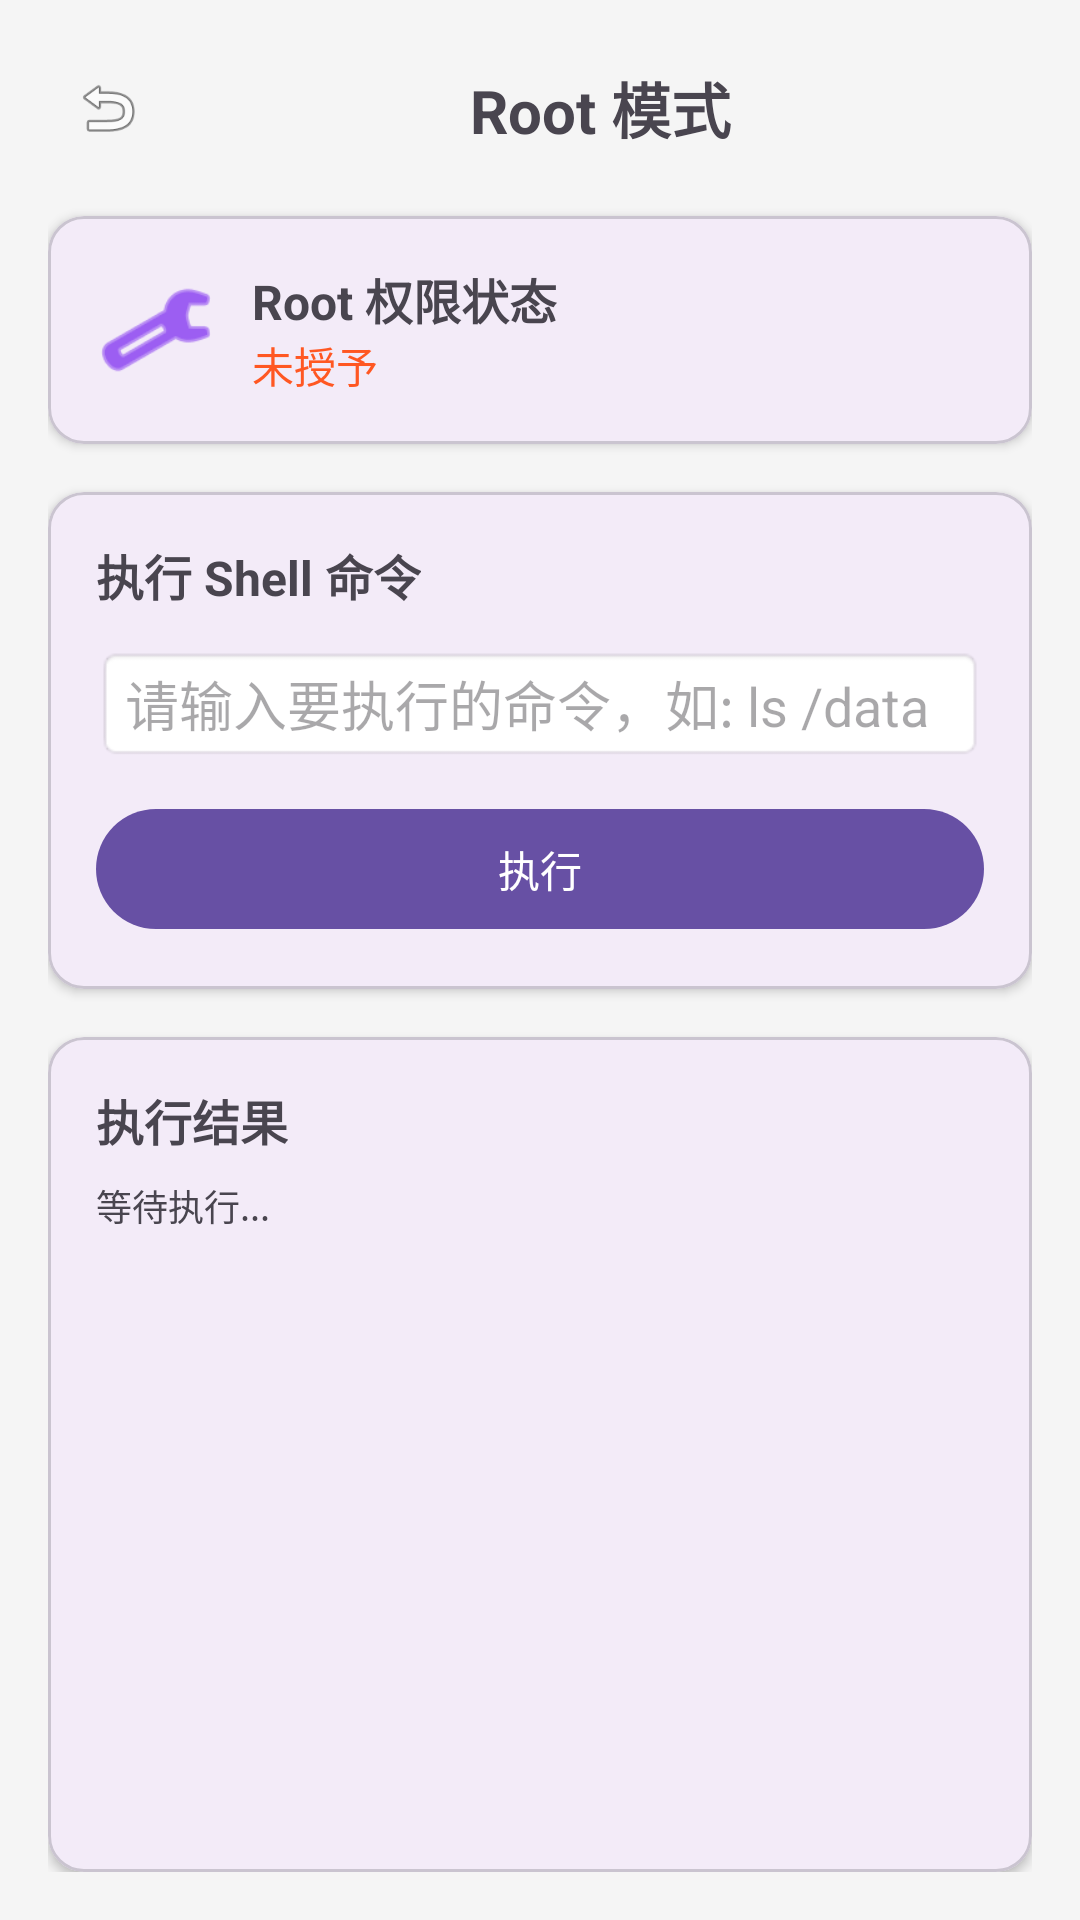

Point at icon controls on the screen. Image size 1080w x 1920h, points as [x,y].
manage: [156,330]
revert: [109,108]
